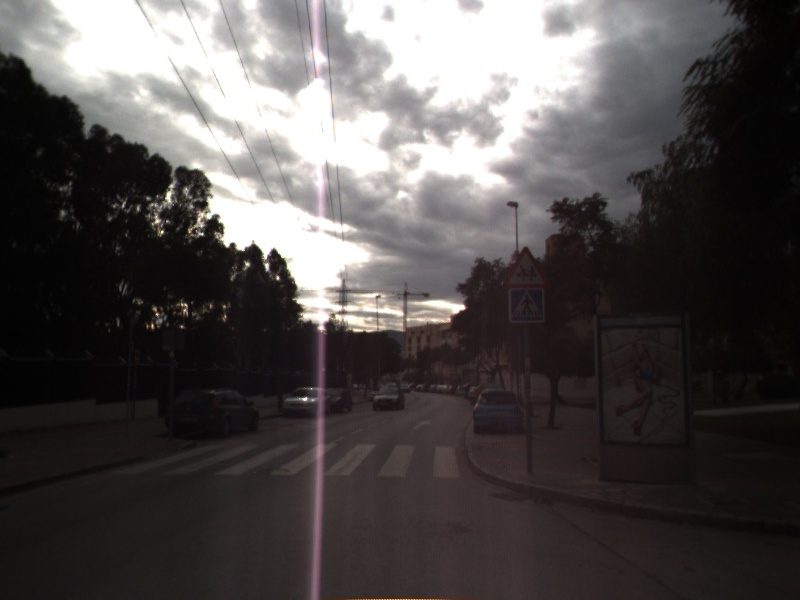STRAIGHT: (409, 418, 434, 432)
